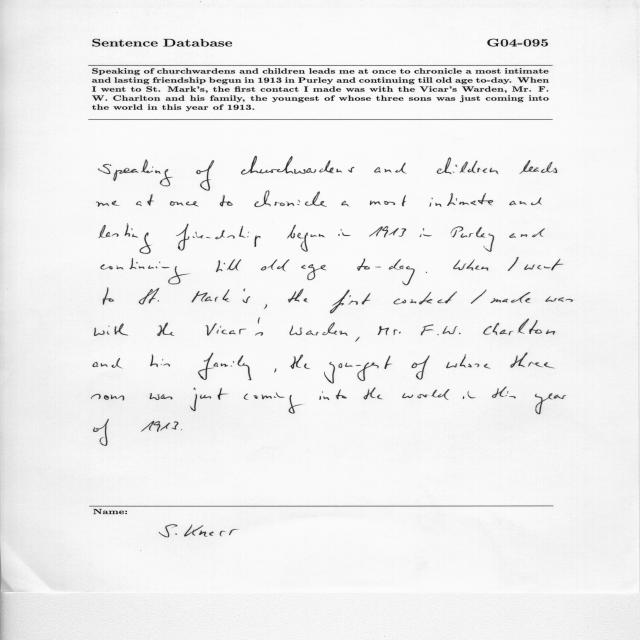word: (324, 337, 392, 383), (101, 258, 190, 284), (176, 224, 261, 251), (241, 156, 354, 175), (98, 160, 173, 187), (357, 259, 415, 286), (99, 224, 151, 254), (198, 353, 251, 380), (484, 319, 556, 336), (244, 393, 302, 414), (254, 191, 327, 207), (451, 226, 494, 252), (206, 317, 263, 336), (437, 158, 499, 175), (287, 225, 325, 252), (330, 290, 370, 314), (429, 193, 493, 207), (190, 388, 228, 411), (192, 289, 250, 304), (394, 292, 458, 305), (289, 322, 348, 336), (511, 353, 555, 369), (446, 354, 491, 369), (535, 393, 566, 414), (196, 160, 214, 191), (520, 160, 558, 174), (403, 389, 450, 400), (369, 226, 406, 238), (524, 259, 564, 270), (491, 292, 531, 303), (453, 259, 489, 271), (412, 356, 430, 380), (93, 419, 109, 446), (95, 324, 129, 336), (141, 421, 178, 432), (301, 264, 326, 280), (370, 195, 406, 206), (374, 163, 407, 174), (509, 228, 545, 238), (261, 260, 290, 272), (216, 259, 241, 272), (139, 288, 159, 304), (319, 389, 347, 400), (93, 358, 122, 368), (291, 355, 310, 369), (509, 198, 542, 206), (492, 387, 516, 398), (288, 289, 308, 302), (150, 354, 170, 367), (92, 394, 125, 401), (364, 388, 383, 400), (471, 289, 486, 304), (157, 323, 174, 336), (136, 194, 154, 206), (421, 325, 439, 336), (103, 288, 114, 305), (170, 201, 199, 207), (545, 296, 573, 302), (150, 393, 173, 400), (220, 195, 233, 207), (508, 257, 519, 271), (96, 201, 120, 207), (443, 326, 461, 334), (419, 228, 432, 237), (463, 391, 476, 399), (378, 326, 389, 335), (338, 229, 351, 236), (341, 201, 350, 207), (393, 329, 401, 335), (264, 304, 267, 309), (274, 368, 277, 373), (426, 272, 427, 273), (181, 430, 182, 431)
